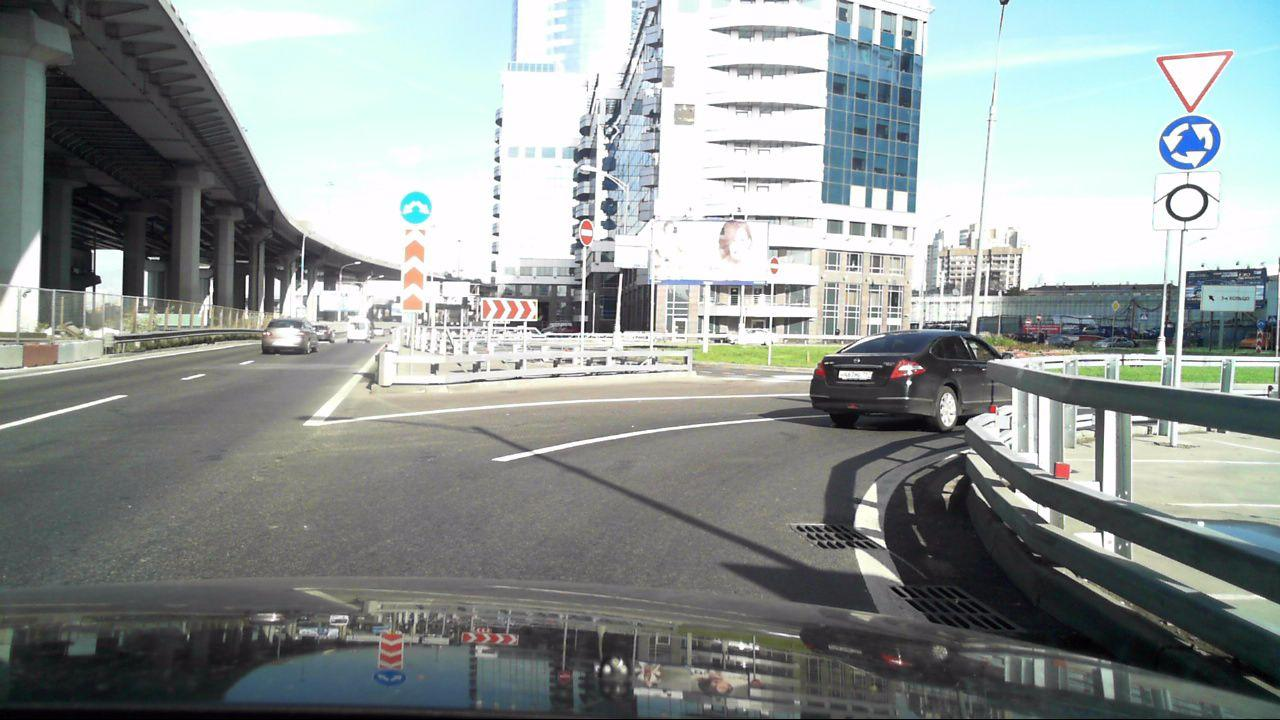1_34_1: (479, 295, 541, 324)
2_1: (1109, 299, 1122, 312)
2_3_3: (1154, 49, 1233, 112)
3_1: (578, 217, 595, 245), (768, 256, 781, 277), (1025, 317, 1032, 326), (1036, 313, 1042, 322)
4_2_3: (399, 189, 434, 225), (1257, 318, 1265, 329)
4_3: (1155, 111, 1223, 172)
5_19_1: (1268, 314, 1278, 324)
5_19_2: (1140, 312, 1150, 321)
6_10_1: (1201, 285, 1257, 312)
8_13: (1151, 170, 1223, 233)
8_22_3: (400, 227, 428, 313), (1256, 330, 1263, 353)
